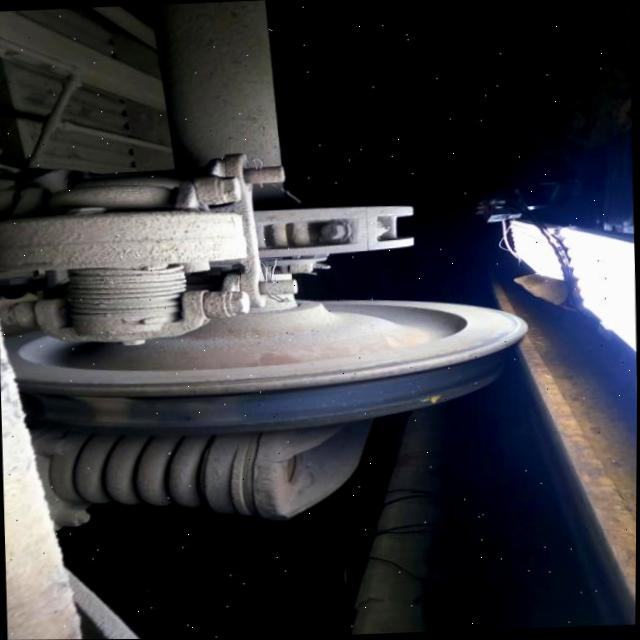Cracks-Scratches: (420, 394, 443, 403)
Shelling: (31, 393, 248, 424)
Wheel: (7, 299, 528, 435)
